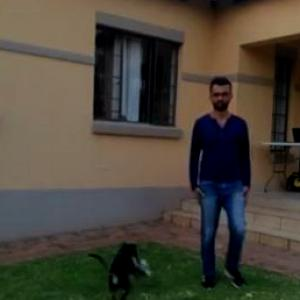follow: (186, 77, 255, 288)
